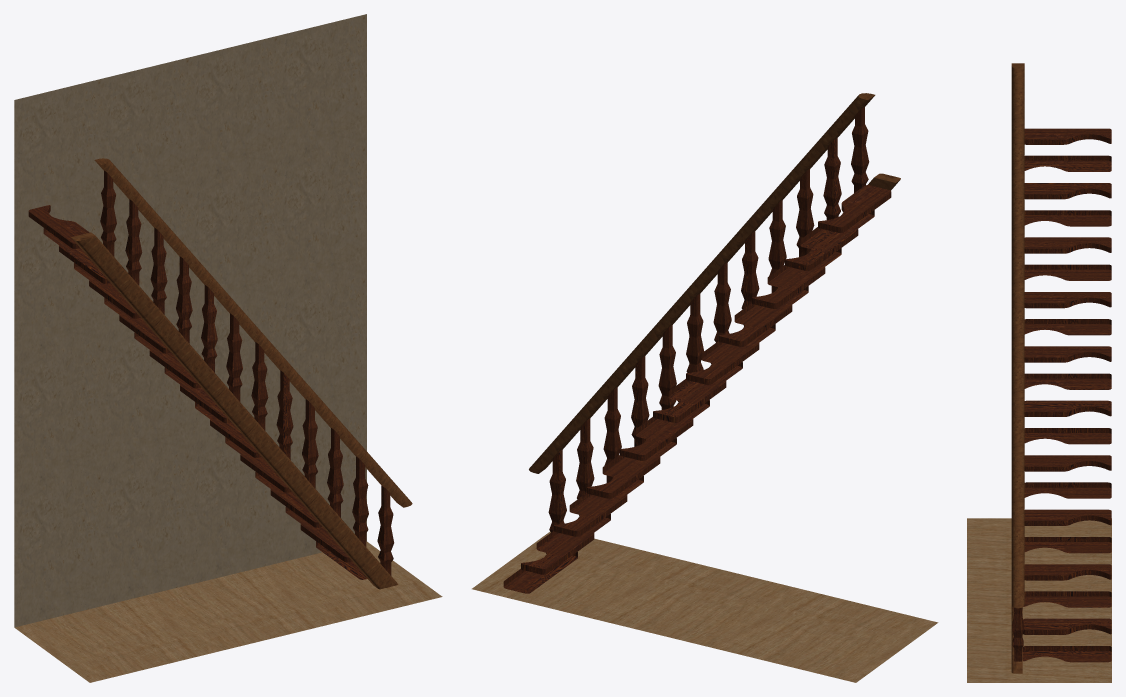
Rendered from steep_staircase.glb.
The picture shows the model from 3 angles, left to right: view 1: azimuth 30°, elevation 25°; view 2: azimuth 150°, elevation 25°; view 3: azimuth 270°, elevation 25°; orthographic projection. The views are drawn at different scales.
Visible parts, largest first — view 1: Object_12, Object_14, Object_8, Object_6, Object_4, Object_10; view 2: Object_14, Object_4, Object_8, Object_10; view 3: Object_4, Object_14, Object_10, Object_8, Object_6.
Boxes of the visible parts, box(x1,y1,x2,y2) form: Object_12: box(14, 14, 366, 627); Object_14: box(14, 541, 442, 682); Object_8: box(100, 170, 394, 575); Object_6: box(71, 232, 398, 589); Object_4: box(28, 205, 367, 579); Object_10: box(94, 158, 412, 507); Object_14: box(472, 531, 938, 682); Object_4: box(503, 185, 891, 593); Object_8: box(548, 106, 869, 532); Object_10: box(529, 93, 875, 473); Object_4: box(1022, 128, 1111, 662); Object_14: box(967, 518, 1111, 682); Object_10: box(1011, 63, 1024, 608); Object_8: box(1012, 607, 1023, 661); Object_6: box(1011, 605, 1022, 673).
Bounding box in the file's own units: 3.5 × 5 × 1.3.
Materials: 4 (4 with a texture image).
